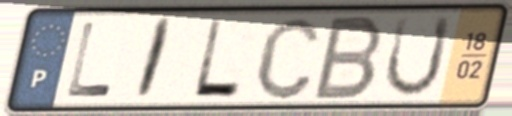B: (309, 13, 388, 103)
C: (251, 13, 324, 103)
I: (131, 15, 177, 103)
L: (189, 17, 244, 100), (63, 20, 115, 100)
U: (380, 13, 455, 101)
